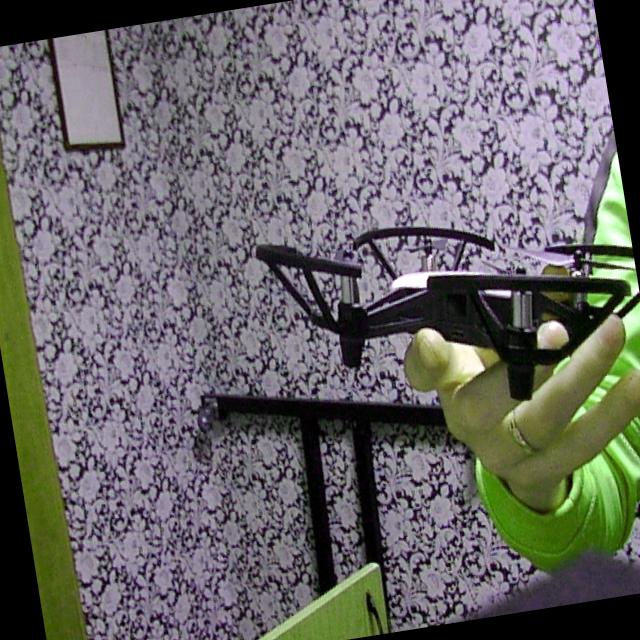drone: (224, 152, 640, 450)
